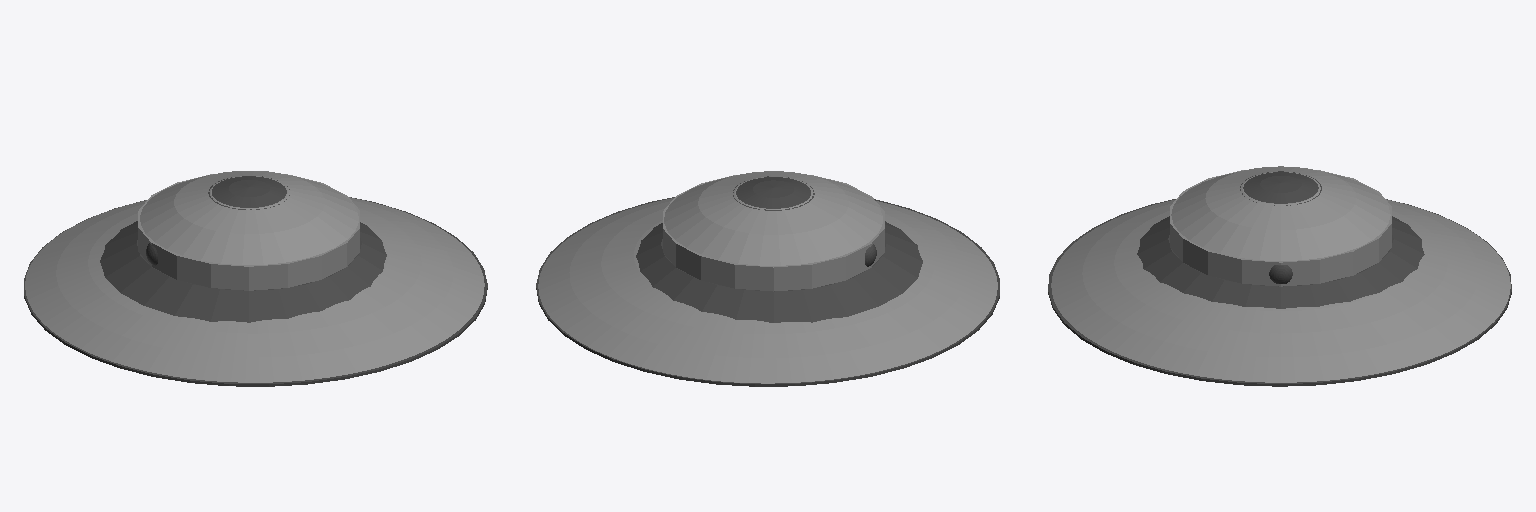
Rendered from tankturrent07.obj.
3 views of the same model, side by side, from view 1: azimuth 30°, elevation 25°; view 2: azimuth 150°, elevation 25°; view 3: azimuth 270°, elevation 25° (orthographic).
Visible parts, largest first — view 1: Sphere008, Sphere001, Cone001, Cylinder001, Cylinder002, Sphere006; view 2: Sphere008, Sphere001, Cone001, Cylinder001, Cylinder002, Sphere006; view 3: Sphere008, Sphere001, Cone001, Cylinder001, Cylinder002, Sphere006.
Boxes of the visible parts, <box> form: Sphere008: <box>25,197,484,382</box>; Sphere001: <box>140,171,358,264</box>; Cone001: <box>100,221,386,322</box>; Cylinder001: <box>138,174,359,290</box>; Cylinder002: <box>24,197,487,386</box>; Sphere006: <box>208,176,289,209</box>; Sphere008: <box>538,198,997,383</box>; Sphere001: <box>664,171,882,265</box>; Cone001: <box>636,221,922,322</box>; Cylinder001: <box>663,175,884,291</box>; Cylinder002: <box>536,197,999,386</box>; Sphere006: <box>733,176,814,210</box>; Sphere008: <box>1051,199,1510,382</box>; Sphere001: <box>1171,166,1390,260</box>; Cone001: <box>1137,216,1424,308</box>; Cylinder001: <box>1170,170,1391,286</box>; Cylinder002: <box>1048,199,1511,386</box>; Sphere006: <box>1240,171,1321,205</box>.
Size of the model in its own units: 140 by 46.66 by 140.